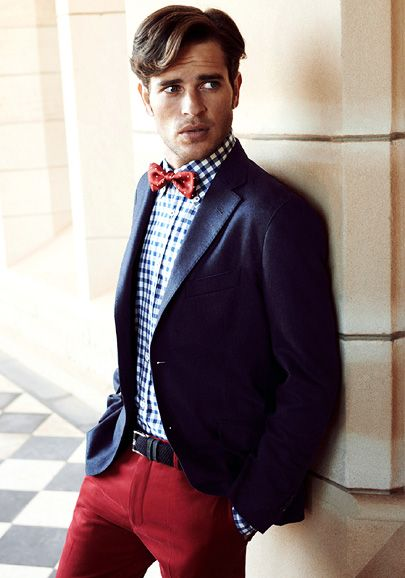bow: (145, 163, 197, 199)
squared: (140, 131, 237, 442)
